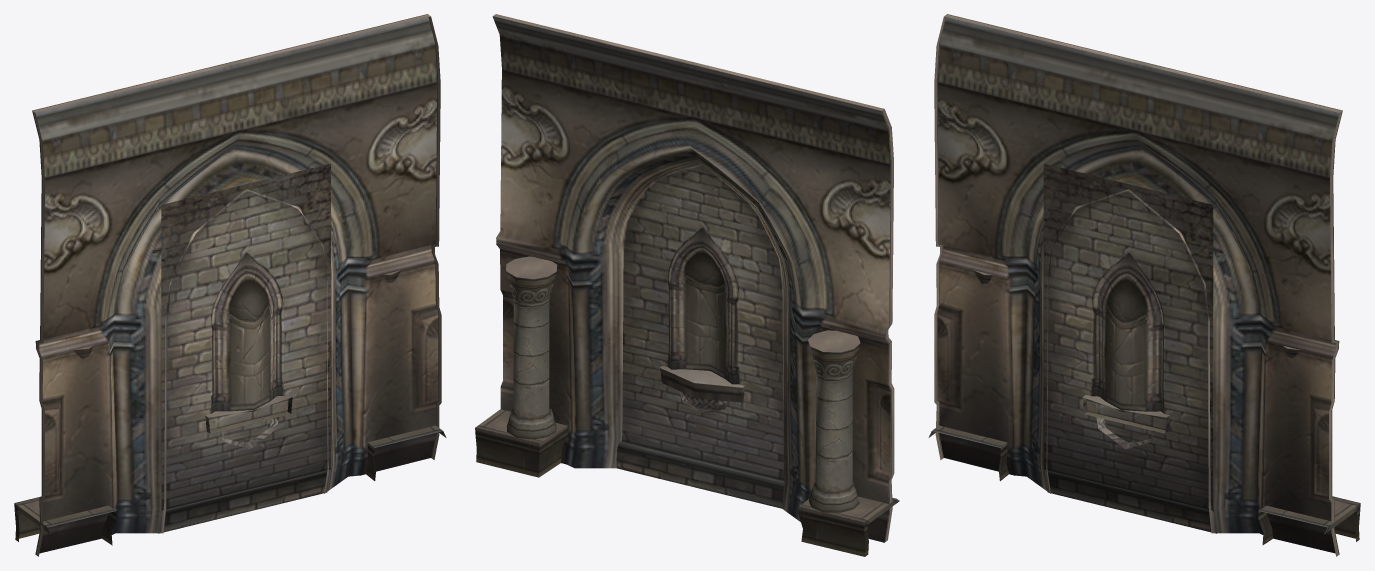
The picture shows the model from 3 angles, left to right: view 1: azimuth 30°, elevation 25°; view 2: azimuth 150°, elevation 25°; view 3: azimuth 330°, elevation 25°; orthographic projection.
Parts seen in each view (by area): view 1: DN_1_4_dt02b; view 2: DN_1_4_dt02b; view 3: DN_1_4_dt02b.
Boxes of the visible parts, left/top/right/bottom form: DN_1_4_dt02b: left=14, top=14, right=446, bottom=556; DN_1_4_dt02b: left=475, top=14, right=899, bottom=556; DN_1_4_dt02b: left=928, top=14, right=1360, bottom=556.
Bounding box in the file's own units: 1990 × 2122 × 369.
